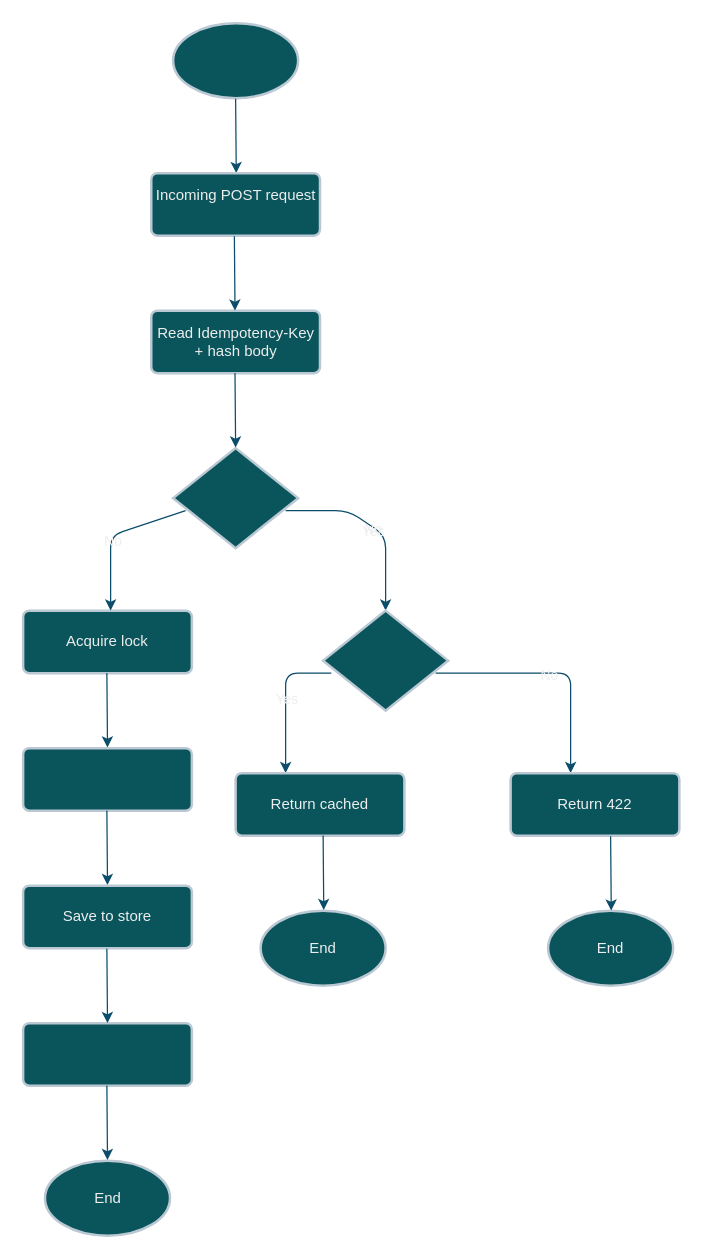
Some shapes in this 701 by 1258 pixel diagram are drawn without their labels. Each missing label, with the box of its shape:
Is key in the store?: (171, 446, 299, 549)
Process payment: (21, 746, 192, 811)
Return 201: (21, 1021, 192, 1086)
Same body ?: (321, 609, 449, 711)
Start: (171, 21, 299, 99)
